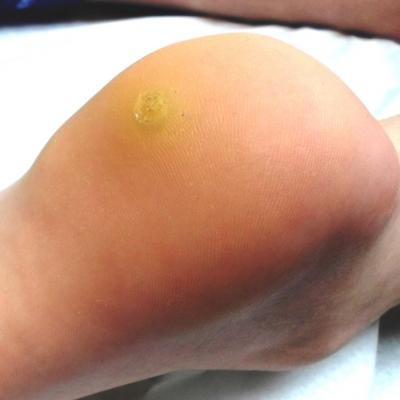Warts: (124, 79, 186, 141)
